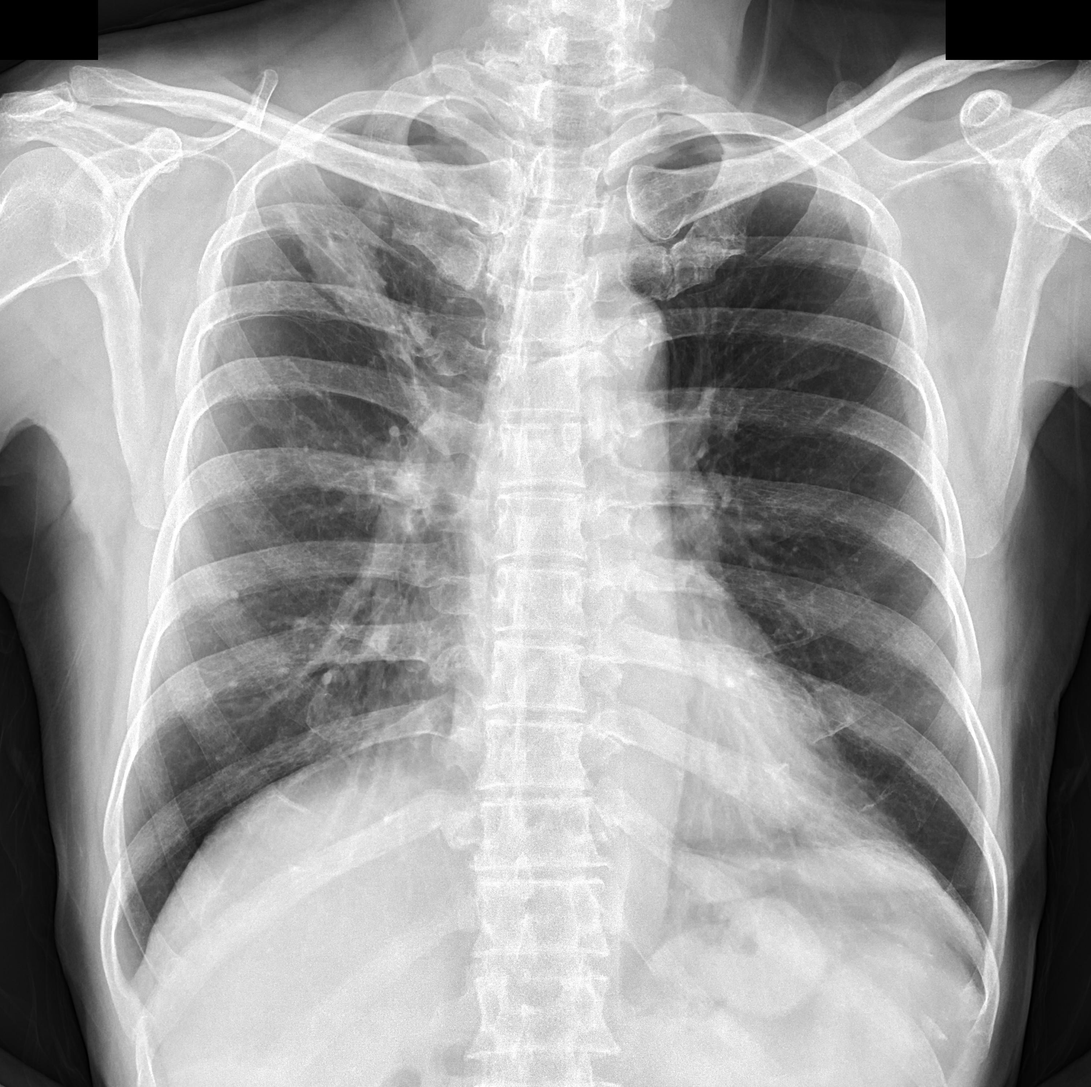Aortic enlargement: (561, 292, 669, 396)
Pulmonary fibrosis: (280, 193, 458, 459)
